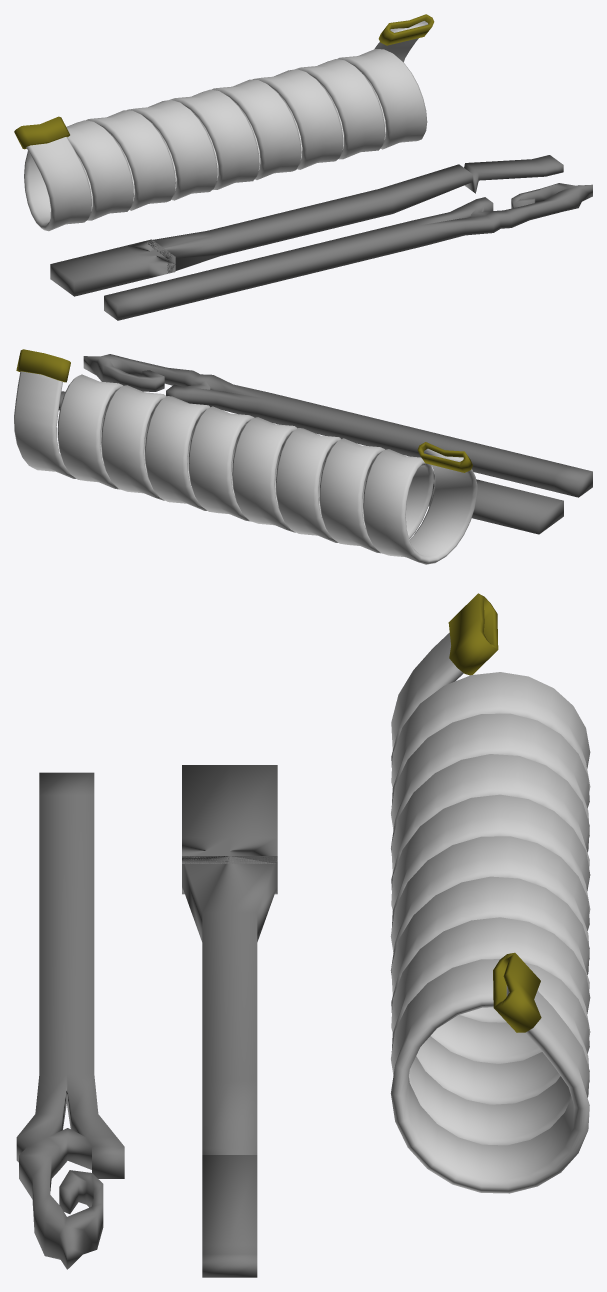
Rendered from Curlformer - FBX.fbx.
The picture shows the model from 3 angles, top to bottom: view 1: azimuth 30°, elevation 25°; view 2: azimuth 150°, elevation 25°; view 3: azimuth 270°, elevation 25°; orthographic projection. The views are drawn at different scales.
Parts seen in each view (by area): view 1: Curlformer subd; view 2: Curlformer subd; view 3: Curlformer subd.
Part boxes in pixels (box(x1,y1,x2,y2)): Curlformer subd: box(14, 14, 592, 320); Curlformer subd: box(14, 349, 592, 564); Curlformer subd: box(16, 593, 590, 1277).
Bounding box in the file's own units: 39.34 × 8.87 × 19.77.
